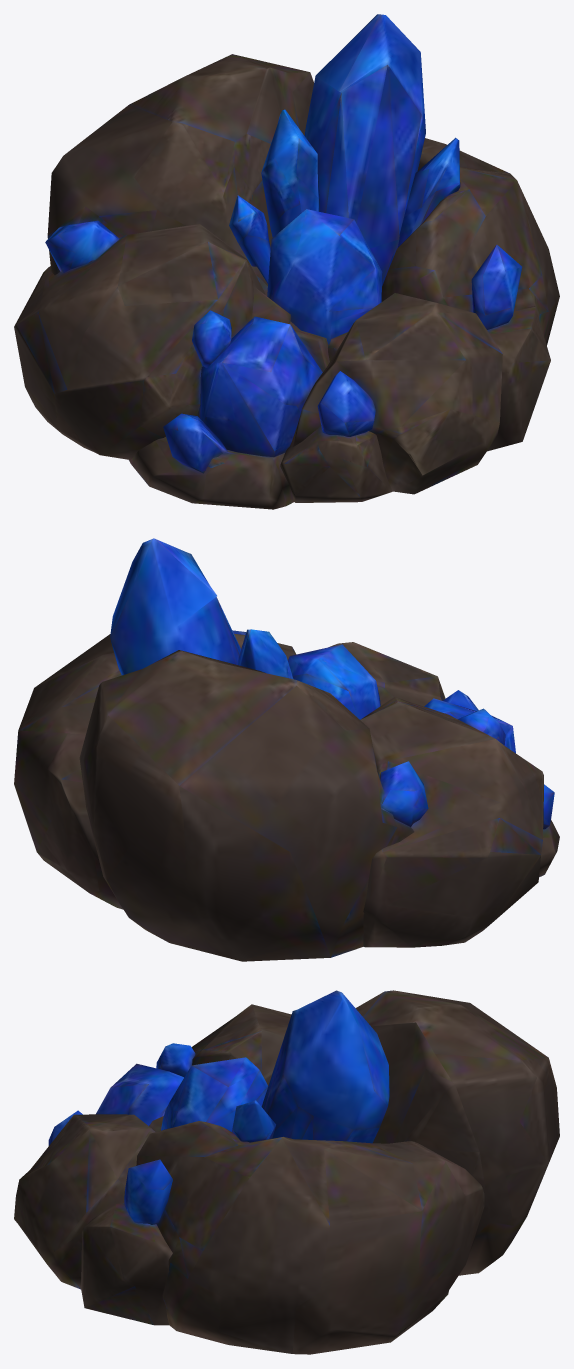
Rendered from filon_saphir.glb.
3 renders of one model, top to bottom at view 1: azimuth 30°, elevation 25°; view 2: azimuth 150°, elevation 25°; view 3: azimuth 270°, elevation 25°, orthographic. The views are drawn at different scales.
Bounding box in the file's own units: 0.9541 × 0.6069 × 0.9565.
1 material, 1 textured.
